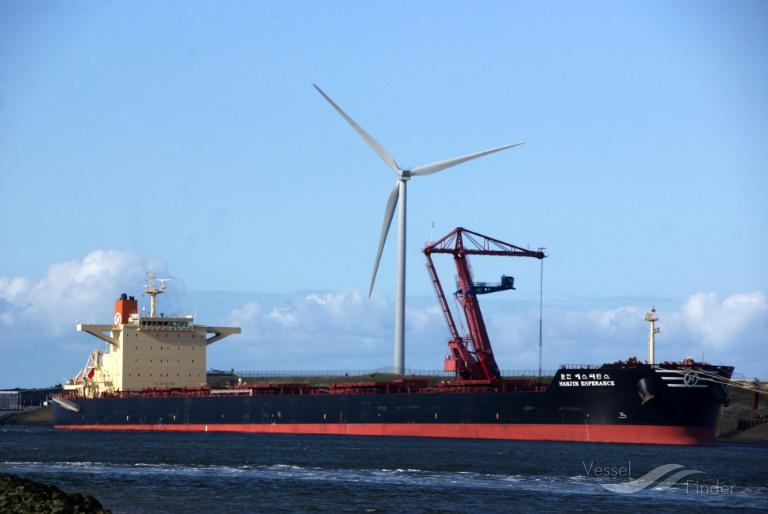OCR: (546, 370, 617, 390)
